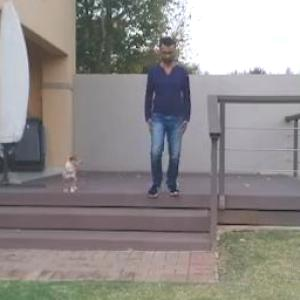follow: (151, 38, 192, 202)
